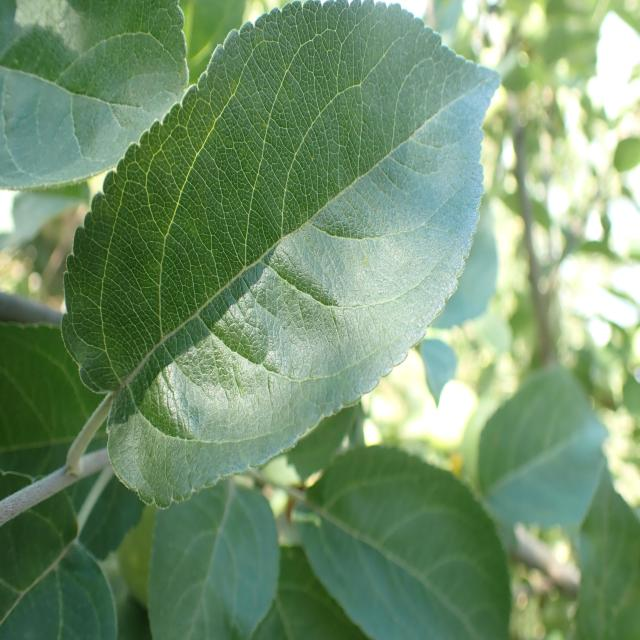healthy: (61, 1, 503, 510), (293, 444, 512, 640), (0, 0, 190, 193), (476, 362, 611, 532), (150, 479, 282, 640), (0, 473, 118, 640), (0, 319, 107, 477), (250, 543, 371, 640), (575, 463, 640, 640)
